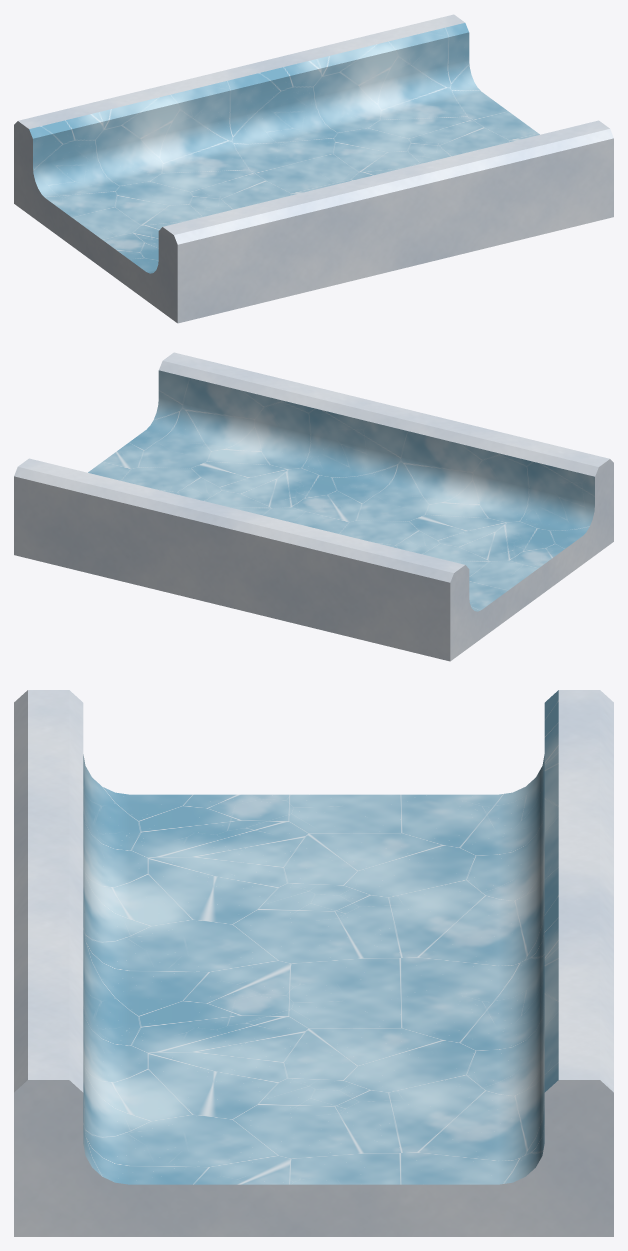
Rendered from SM_SlideChute_Straight_400.fbx.
3 views of the same model, one above another, from view 1: azimuth 30°, elevation 25°; view 2: azimuth 150°, elevation 25°; view 3: azimuth 270°, elevation 25° (orthographic). The views are drawn at different scales.
Visible parts, largest first — view 1: SM_SlideChute_Straight_400; view 2: SM_SlideChute_Straight_400; view 3: SM_SlideChute_Straight_400.
Boxes of the visible parts, bbox=[...] form: SM_SlideChute_Straight_400: bbox=[14, 14, 613, 323]; SM_SlideChute_Straight_400: bbox=[14, 352, 613, 661]; SM_SlideChute_Straight_400: bbox=[14, 690, 613, 1236].
Size of what is drawn, in the model's own units: 260 by 400 by 75.
